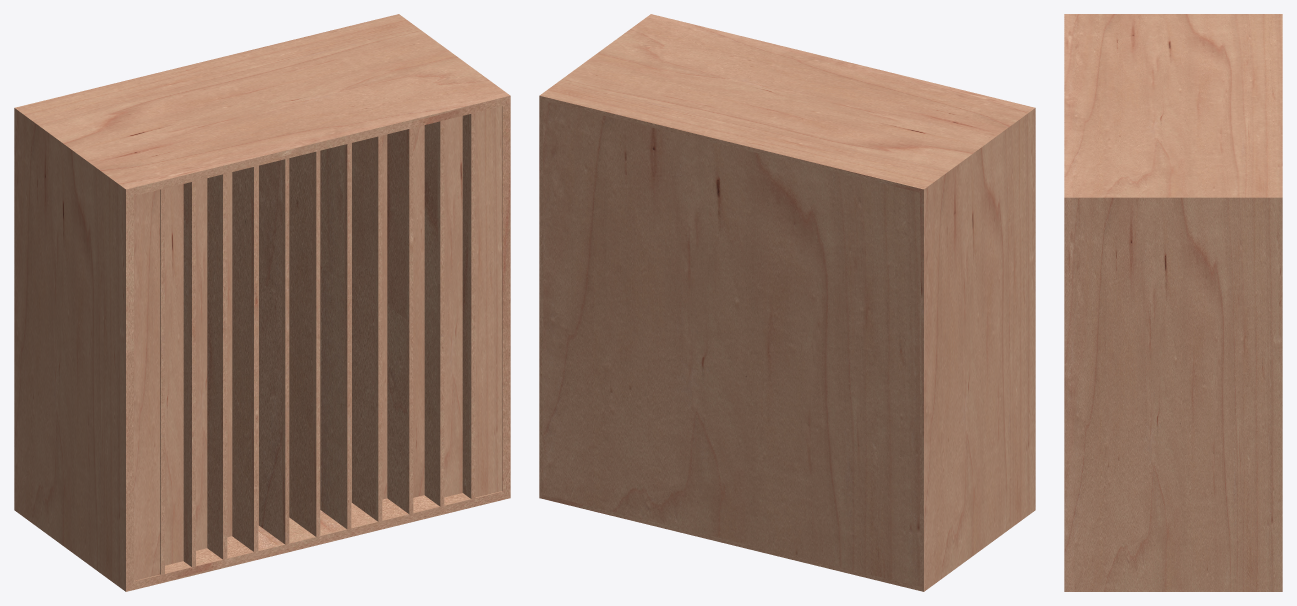
File: RQS250.glb
3 views of the same model, side by side, from view 1: azimuth 30°, elevation 25°; view 2: azimuth 150°, elevation 25°; view 3: azimuth 270°, elevation 25° (orthographic). The views are drawn at different scales.
Visible parts, largest first — view 1: RQS250; view 2: RQS250; view 3: RQS250.
Part boxes in pixels (x1,y1,x2,y2): RQS250: (14,14,510,591); RQS250: (539,14,1035,591); RQS250: (1064,14,1282,591).
Size of the model in its own units: 23.62 by 23.62 by 11.88.
Materials: 1 (1 with a texture image).
